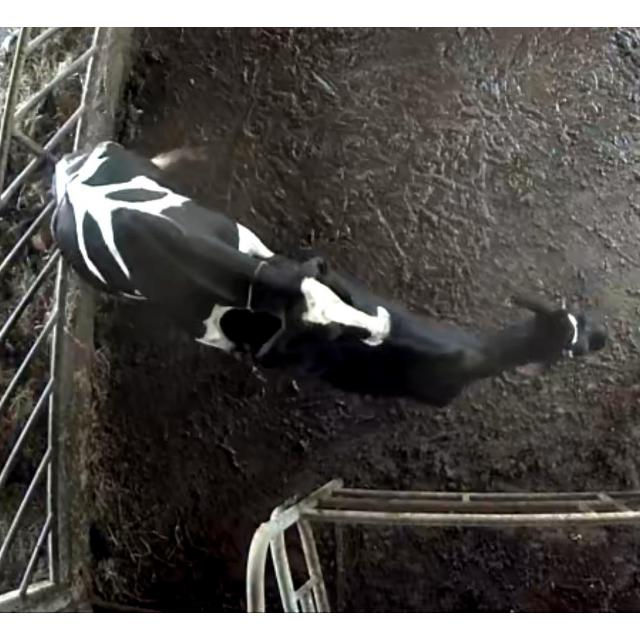ride: (51, 141, 397, 358)
